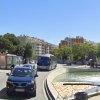buses: (38, 54, 57, 71)
